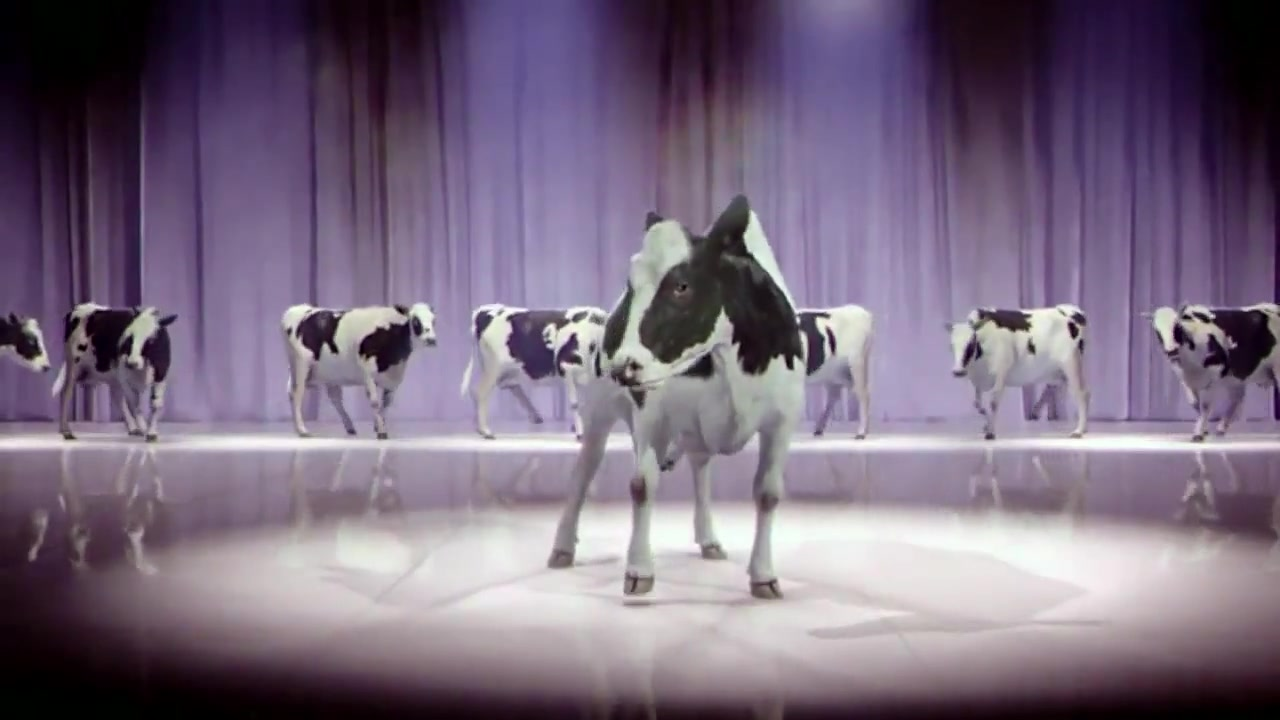cow: (550, 193, 809, 604)
